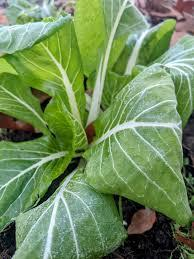Healthy-Pechay: (0, 4, 194, 244)
